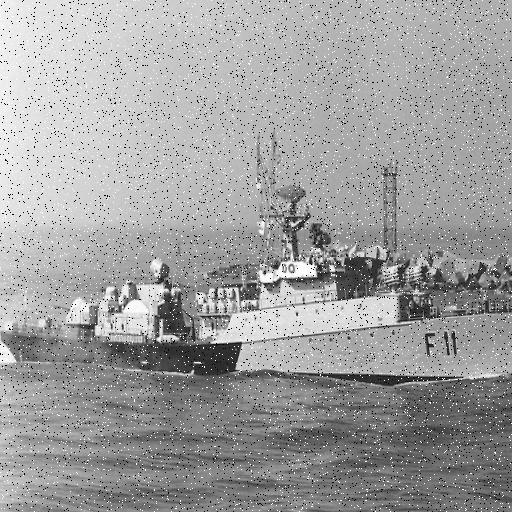Fragata: (1, 142, 512, 392)
